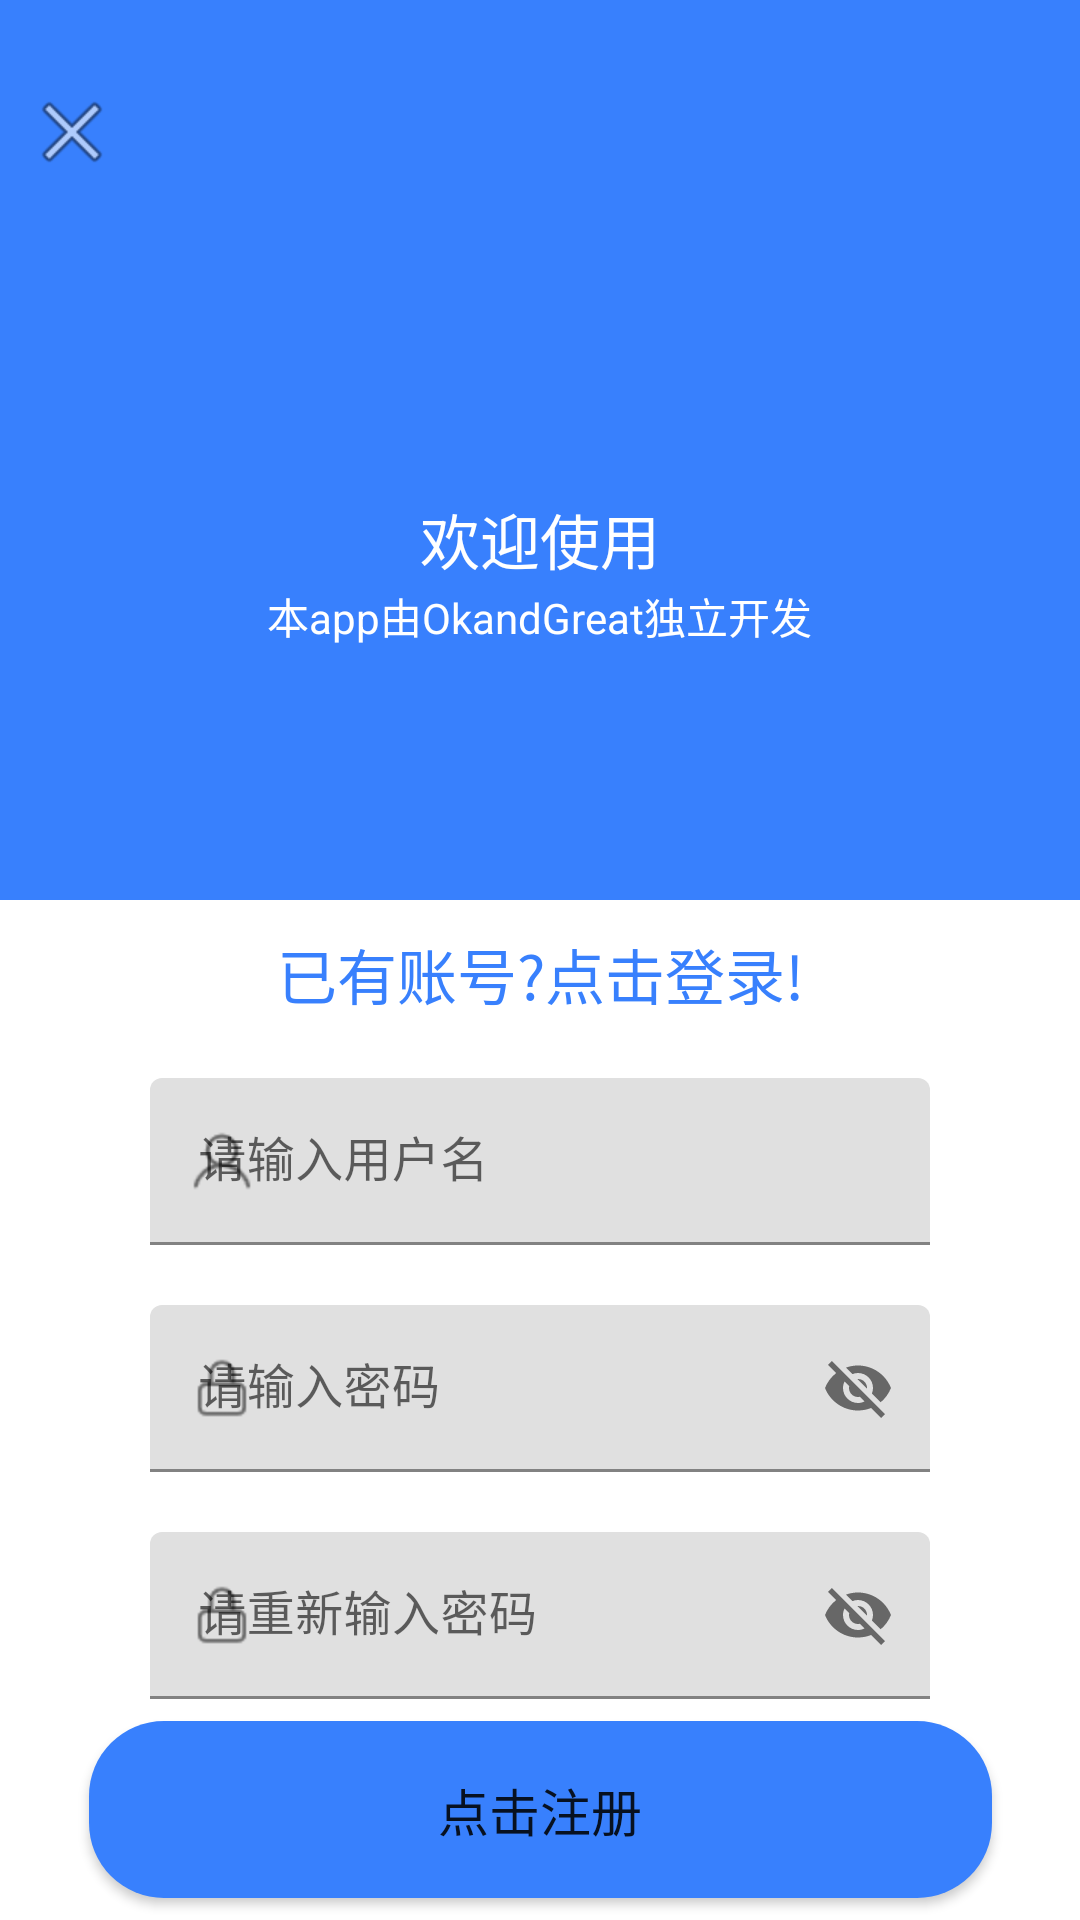

Named icons in this screenshot (1080px×1920px) and their bounding boxes, [x1, y1, x2, y2]:
close clear cancel: [42, 102, 102, 162]
